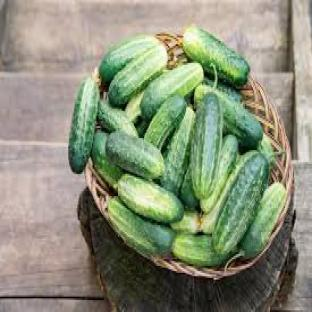Cucumber: (214, 152, 268, 254), (201, 152, 255, 233), (195, 86, 263, 148), (183, 26, 249, 86), (108, 197, 174, 255), (108, 45, 167, 107), (240, 183, 285, 259), (141, 64, 203, 119), (191, 94, 223, 199), (118, 174, 183, 223), (160, 108, 195, 196), (200, 135, 238, 213), (99, 35, 159, 83), (69, 77, 99, 173), (106, 132, 164, 179), (145, 96, 186, 150), (91, 130, 123, 189), (173, 234, 228, 267), (98, 101, 138, 136), (180, 166, 199, 209), (172, 210, 199, 233), (258, 133, 275, 168), (125, 91, 144, 122), (217, 82, 242, 102), (137, 120, 149, 138)
